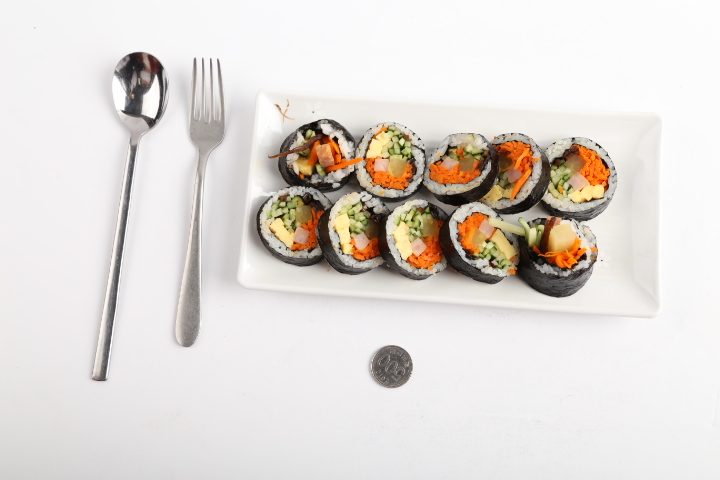dish: (237, 89, 660, 316)
ref_coin: (371, 345, 412, 388)
ref_fork: (189, 56, 225, 156)
ref_spoon: (112, 51, 169, 148)
김밥: (255, 116, 617, 297)
